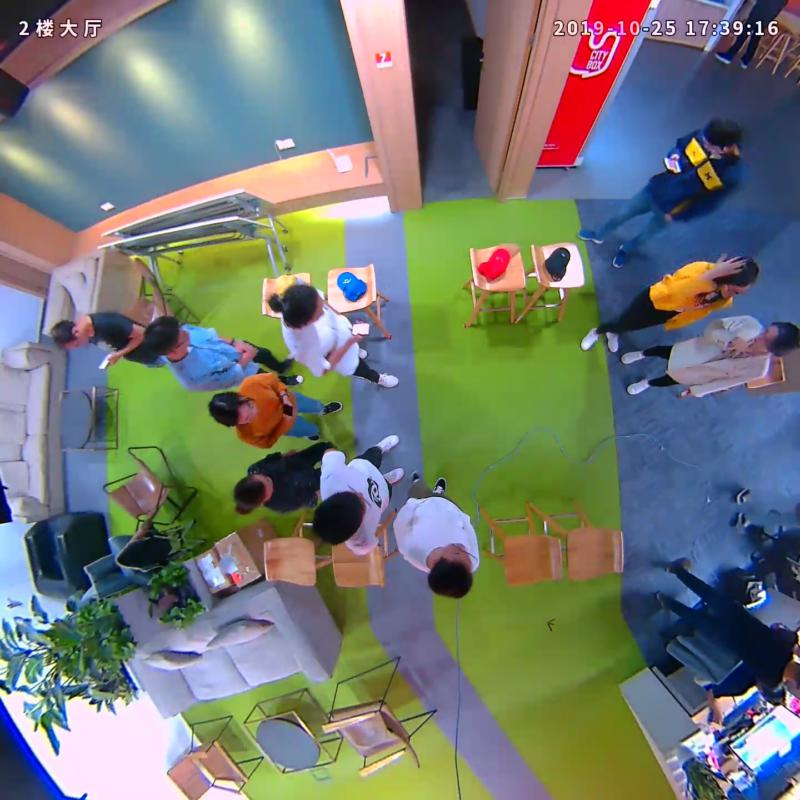head: (312, 490, 367, 544), (427, 542, 473, 599), (279, 283, 325, 327), (143, 317, 191, 357), (207, 391, 257, 429), (717, 255, 759, 299), (233, 472, 274, 511), (755, 321, 800, 355), (702, 116, 741, 155), (49, 317, 90, 351)
